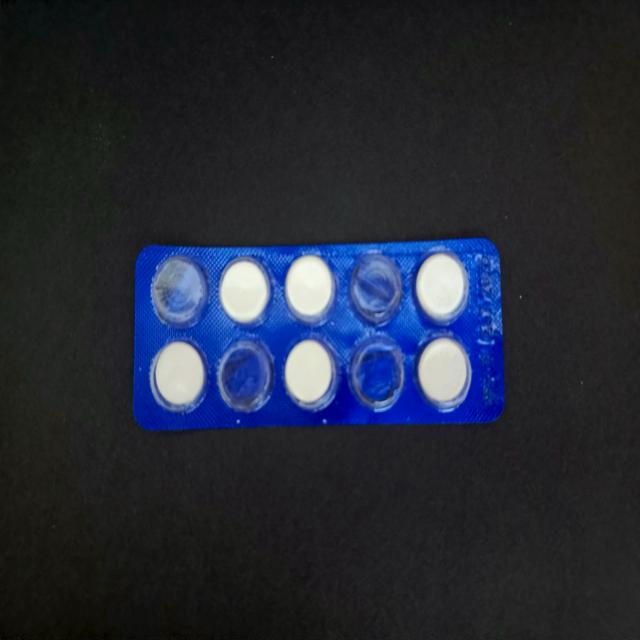defect: (148, 252, 212, 332), (215, 336, 277, 415), (348, 334, 406, 412), (349, 250, 405, 326)
